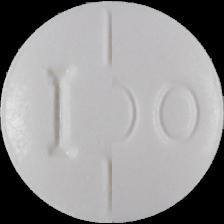63629-5279: (0, 0, 224, 224)
